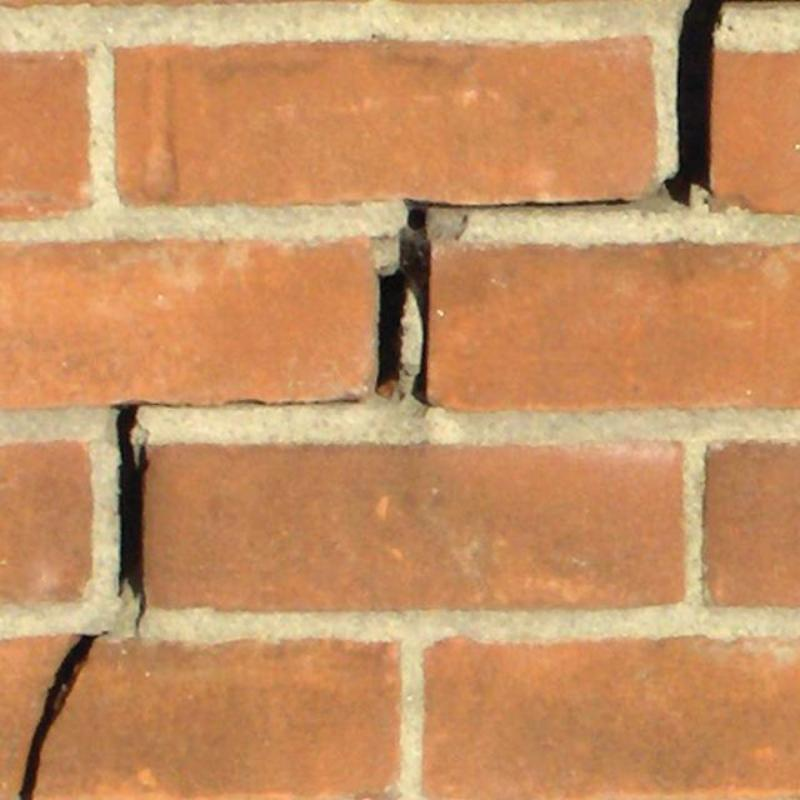pothole: (116, 396, 364, 634), (377, 199, 633, 408), (664, 0, 799, 204), (19, 636, 95, 799)
